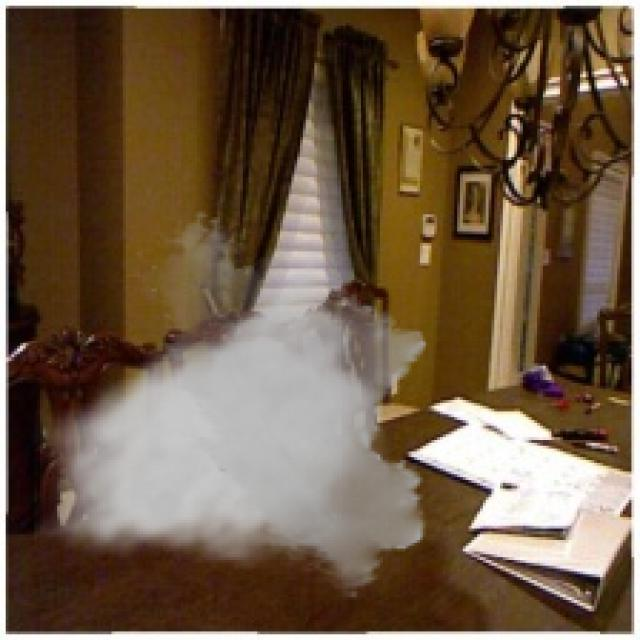smoke: (34, 209, 437, 600)
